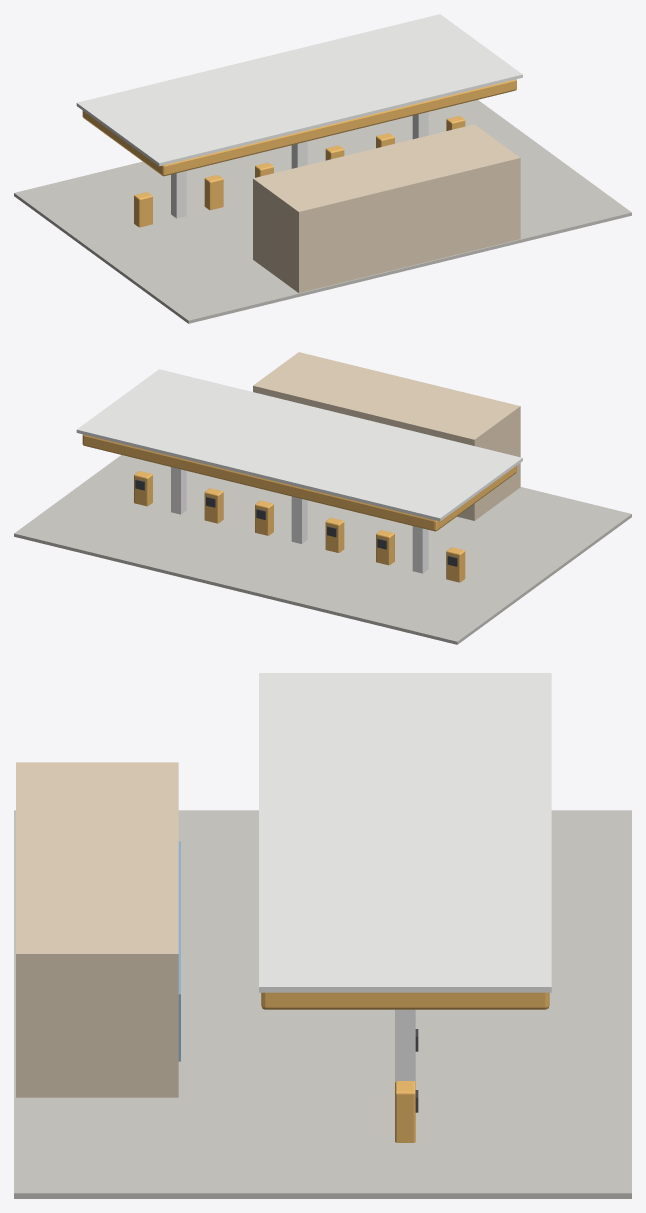
The model's file is B_gasstation.fbx.
3 views of the same model, one above another, from view 1: azimuth 30°, elevation 25°; view 2: azimuth 150°, elevation 25°; view 3: azimuth 270°, elevation 25° (orthographic). The views are drawn at different scales.
Visible parts, largest first — view 1: Concrete.009, White.007, Wall.007, Trim.007; view 2: Concrete.009, White.007, Wall.007, Trim.007, Dark.014; view 3: Concrete.009, White.007, Wall.007, Trim.007.
Boxes of the visible parts, x1,y1,x2,y2 form: Concrete.009: (14,100,631,323); White.007: (76,14,522,218); Wall.007: (253,124,520,292); Trim.007: (82,79,516,227); Concrete.009: (14,455,631,644); White.007: (76,369,522,573); Wall.007: (253,352,520,520); Trim.007: (82,434,516,582); Dark.014: (135,479,457,566); Concrete.009: (14,810,631,1198); White.007: (259,673,551,1082); Wall.007: (16,762,178,1097); Trim.007: (261,992,549,1142).
Bounding box in the file's own units: 44 × 9.5 × 30.
